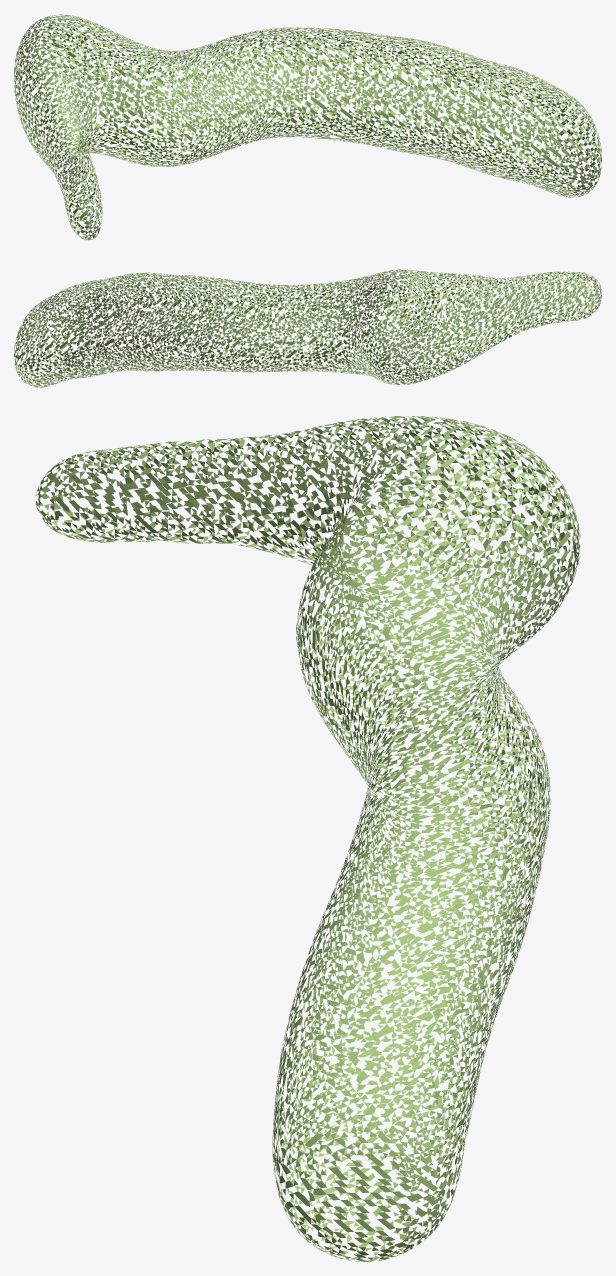
File: morph_012.glb
The picture shows the model from 3 angles, top to bottom: view 1: azimuth 30°, elevation 25°; view 2: azimuth 150°, elevation 25°; view 3: azimuth 270°, elevation 25°; orthographic projection. The views are drawn at different scales.
Size of the model in its own units: 115 by 48.75 by 54.42.
